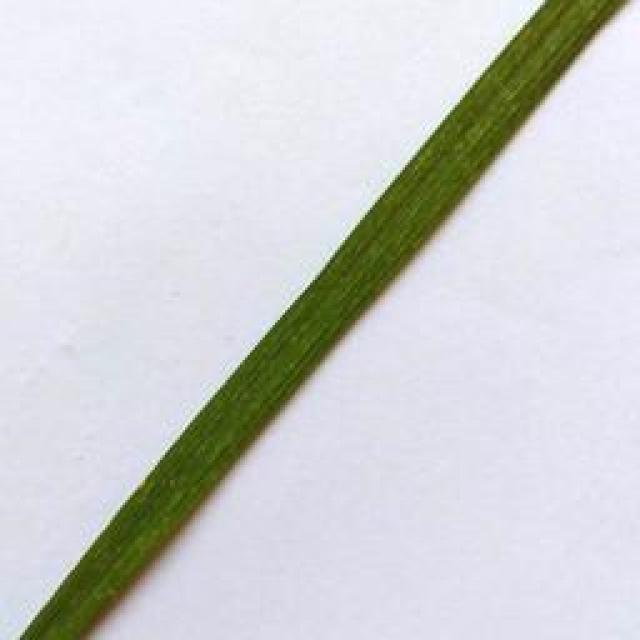Healthy-Plant: (19, 0, 629, 640)
